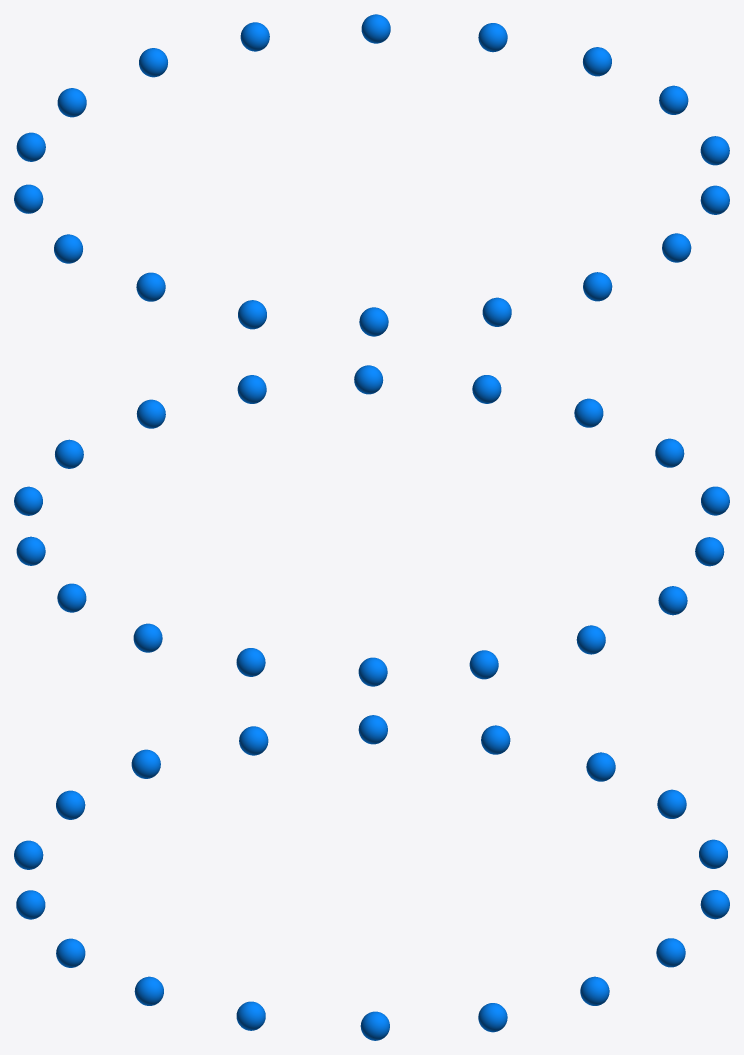
3 views of the same model, one above another, from view 1: azimuth 30°, elevation 25°; view 2: azimuth 150°, elevation 25°; view 3: azimuth 270°, elevation 25° (orthographic).
Parts seen in each view (by area): view 1: Sphere052; view 2: Sphere052; view 3: Sphere052.
Part boxes in pixels (x1=…): Sphere052: x1=14, y1=14, x2=729, y2=336; Sphere052: x1=14, y1=365, x2=729, y2=686; Sphere052: x1=14, y1=715, x2=729, y2=1040.
Size of the model in its own units: 204 by 8.22 by 200.
